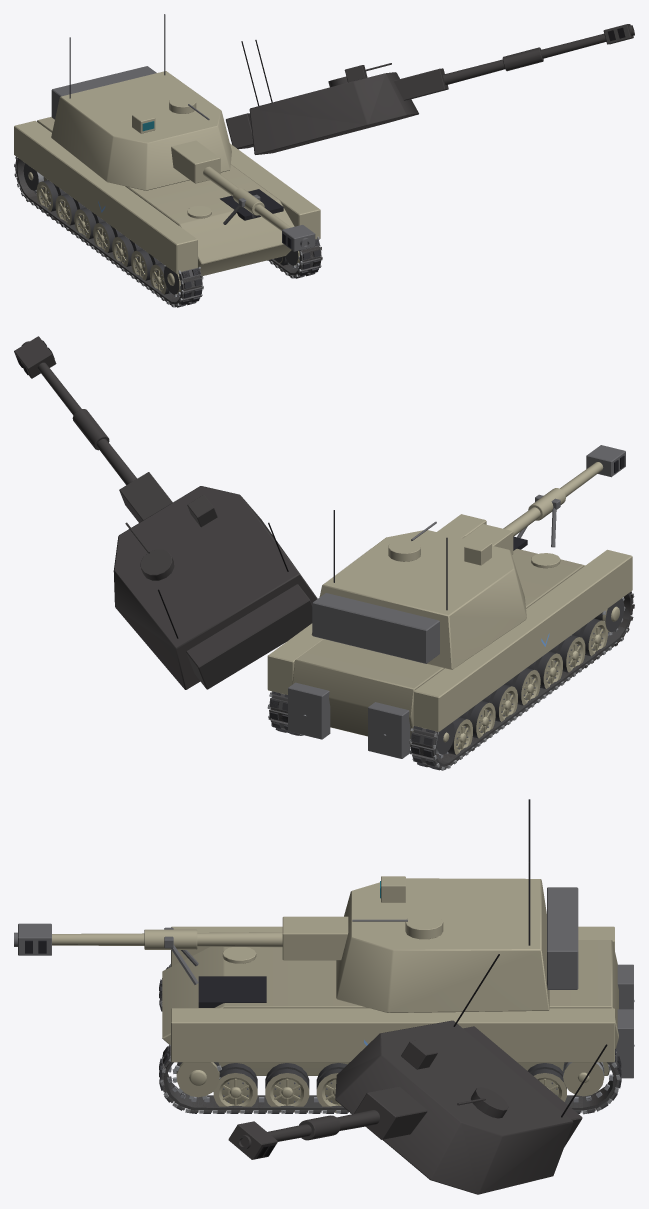
File: artillery__m109_doher.glb
The picture shows the model from 3 angles, top to bottom: view 1: azimuth 30°, elevation 25°; view 2: azimuth 150°, elevation 25°; view 3: azimuth 270°, elevation 25°; orthographic projection. The views are drawn at different scales.
Parts seen in each view (by area): view 1: Hull_Mesh, Turret_Mesh, Wreck, Gun_Mesh, Track_L_Mesh, Track_R_Mesh, Wheel_L3_Mesh, Wheel_L4_Mesh, Wheel_L0_Mesh, Wheel_L2_Mesh, Wheel_L1_Mesh, Wheel_L5_Mesh; view 2: Wreck, Hull_Mesh, Turret_Mesh, Gun_Mesh, Track_L_Mesh, Wheel_L3_Mesh, Wheel_L5_Mesh, Wheel_L2_Mesh, Wheel_L1_Mesh, Wheel_L4_Mesh, Wheel_L6_Mesh, Track_R_Mesh (+1 smaller); view 3: Hull_Mesh, Wreck, Turret_Mesh, Gun_Mesh, Track_R_Mesh, Wheel_R5_Mesh, Wheel_R6_Mesh, Sprocket_R_Mesh, Idler_R_Mesh, Wheel_R4_Mesh, Wheel_R0_Mesh.
Part boxes in pixels (<box>): Hull_Mesh: <box>14,117,320,275</box>; Turret_Mesh: <box>51,14,231,190</box>; Wreck: <box>14,24,634,306</box>; Gun_Mesh: <box>171,140,315,251</box>; Track_L_Mesh: <box>14,156,203,307</box>; Track_R_Mesh: <box>267,236,322,278</box>; Wheel_L3_Mesh: <box>93,221,123,252</box>; Wheel_L4_Mesh: <box>112,235,142,266</box>; Wheel_L0_Mesh: <box>36,180,66,211</box>; Wheel_L2_Mesh: <box>74,207,104,239</box>; Wheel_L1_Mesh: <box>55,194,85,225</box>; Wheel_L5_Mesh: <box>131,249,161,280</box>; Wreck: <box>14,336,634,768</box>; Hull_Mesh: <box>267,494,632,758</box>; Turret_Mesh: <box>311,510,526,669</box>; Gun_Mesh: <box>463,445,625,554</box>; Track_L_Mesh: <box>409,592,634,770</box>; Wheel_L3_Mesh: <box>504,668,540,705</box>; Wheel_L5_Mesh: <box>549,635,585,672</box>; Wheel_L2_Mesh: <box>482,684,517,721</box>; Wheel_L1_Mesh: <box>459,701,495,738</box>; Wheel_L4_Mesh: <box>527,651,562,688</box>; Wheel_L6_Mesh: <box>572,618,607,656</box>; Track_R_Mesh: <box>267,691,303,735</box>; Hull_Mesh: <box>162,926,634,1078</box>; Wreck: <box>159,954,620,1194</box>; Turret_Mesh: <box>336,799,578,1012</box>; Gun_Mesh: <box>14,916,348,960</box>; Track_R_Mesh: <box>159,1045,621,1114</box>; Wheel_R5_Mesh: <box>265,1063,309,1112</box>; Wheel_R6_Mesh: <box>213,1063,257,1112</box>; Sprocket_R_Mesh: <box>172,1062,221,1099</box>; Idler_R_Mesh: <box>563,1062,604,1096</box>; Wheel_R4_Mesh: <box>316,1063,347,1112</box>; Wheel_R0_Mesh: <box>528,1063,566,1101</box>.
Size of what is drawn, in the model's own units: 11.33 by 3.87 by 9.16.
